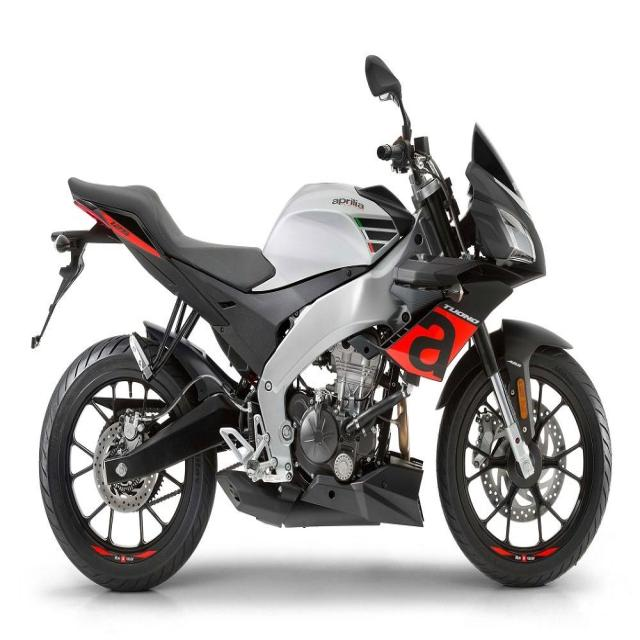Motorcycle: (39, 55, 611, 591)
